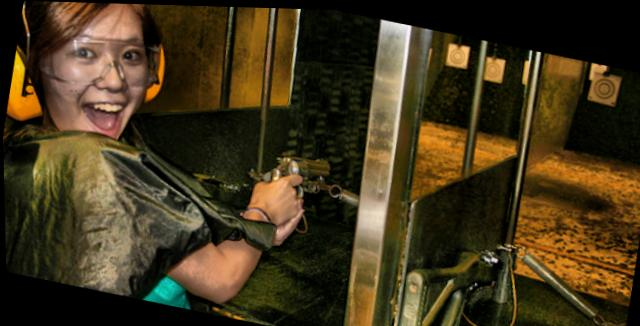pistol: (260, 143, 331, 210)
